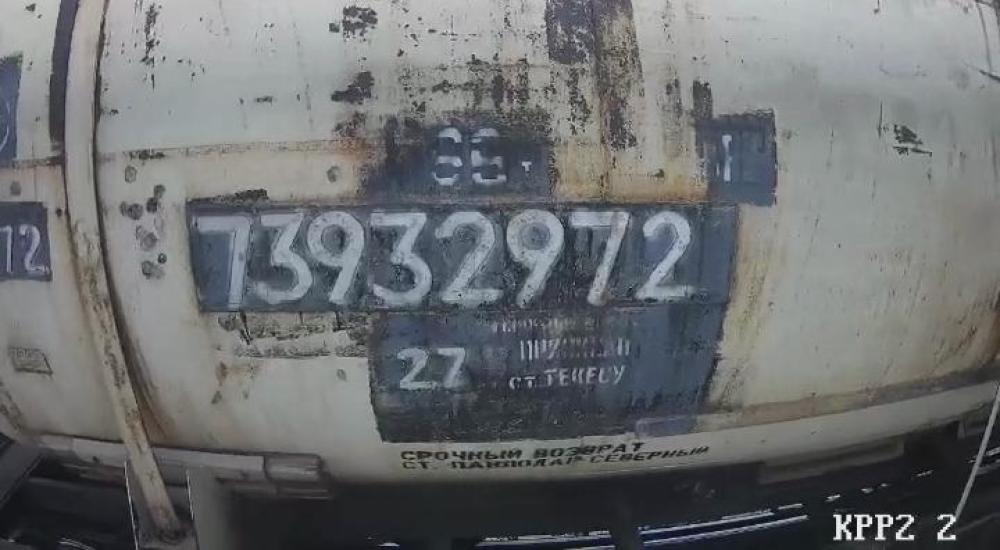Wagon-number: (192, 204, 700, 309)
